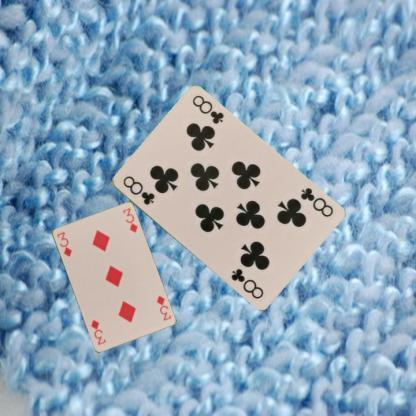3d: (54, 229, 73, 258), (154, 293, 172, 322)
8c: (119, 173, 156, 207), (298, 184, 334, 218)
